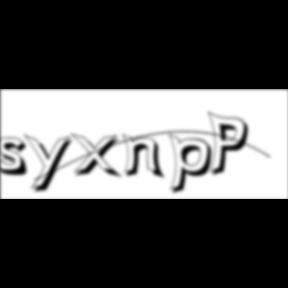P: (208, 110, 254, 180)
n: (122, 132, 170, 181)
p: (169, 132, 219, 198)
s: (1, 137, 36, 179)
x: (72, 132, 126, 181)
y: (25, 132, 79, 196)
